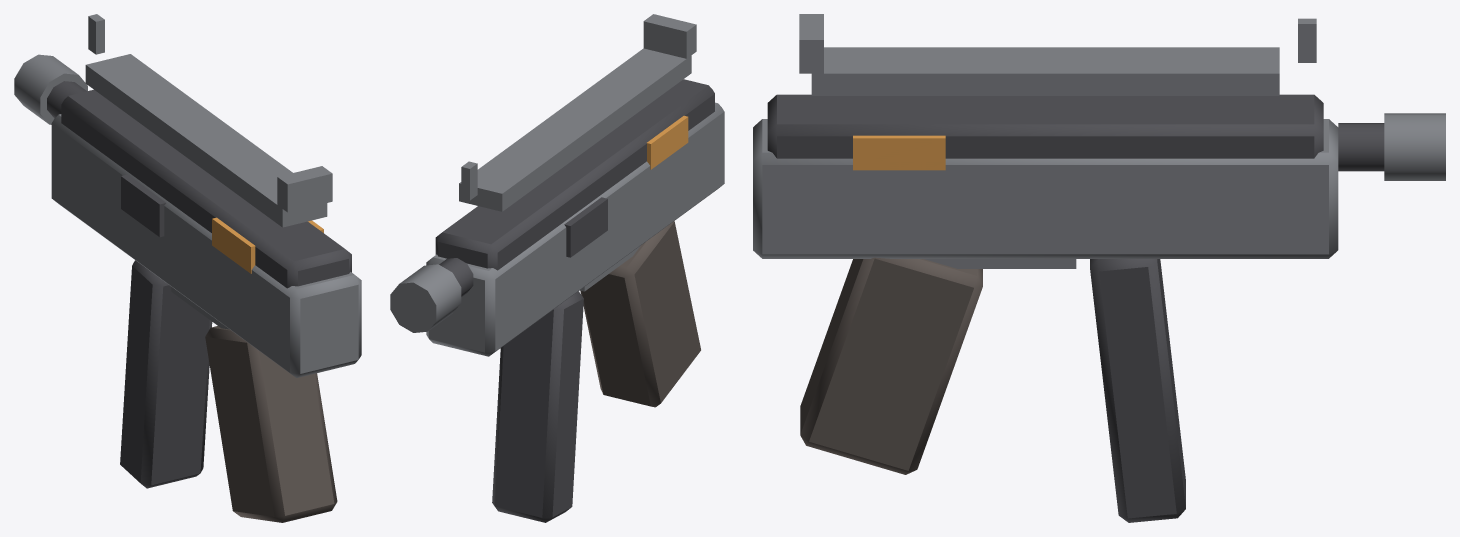
The model's file is kestrel.glb.
3 renders of one model, left to right at view 1: azimuth 30°, elevation 25°; view 2: azimuth 150°, elevation 25°; view 3: azimuth 270°, elevation 25°, orthographic. The views are drawn at different scales.
Parts seen in each view (by area): view 1: wpn_kestrel; view 2: wpn_kestrel; view 3: wpn_kestrel.
Part boxes in pixels (x1,y1,x2,y2): wpn_kestrel: (14, 14, 361, 522); wpn_kestrel: (390, 14, 724, 522); wpn_kestrel: (753, 14, 1445, 522).
Size of what is drawn, in the model's own units: 0.0343 by 0.1746 by 0.225.
